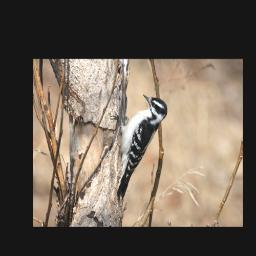Woodpecker: (110, 94, 168, 204)
